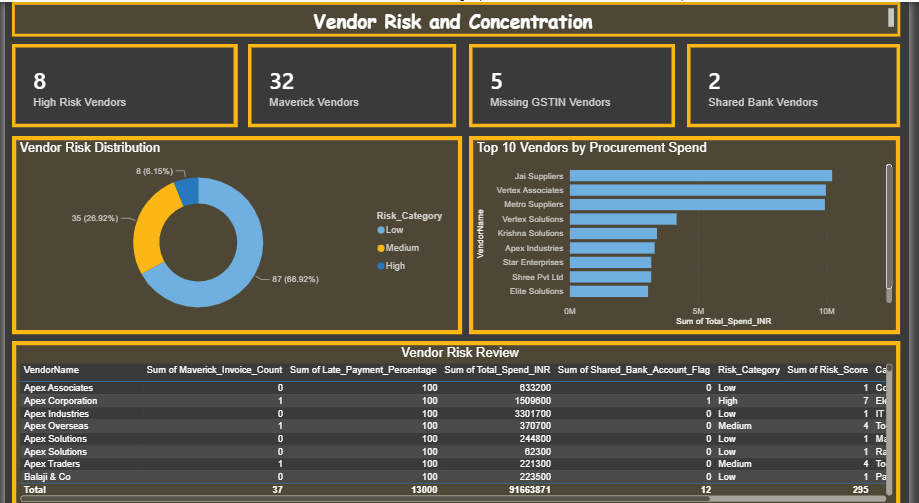

The dashboard page shown, as its layout file describes it:
{"tool":"powerbi","page":{"name":"Vendor Risk and Concentration","canvas":[1280,720],"ordinal":1},"visuals":[{"type":"cardVisual","fields":{"Data":["Vendor_Risk_Review_Table.High Risk Vendors"]},"box":[10.1,59,319.7,118.1],"z":0},{"type":"cardVisual","fields":{"Data":["Vendor_Risk_Review_Table.Missing GSTIN Vendors"]},"box":[658.1,59,292.3,118.1],"z":1000},{"type":"cardVisual","fields":{"Data":["Vendor_Risk_Review_Table.Shared Bank Vendors"]},"box":[966.2,59,302.4,118.1],"z":2000},{"type":"cardVisual","fields":{"Data":["Vendor_Risk_Review_Table.Maverick Vendors"]},"box":[344.2,59,295.2,118.1],"z":3000},{"type":"donutChart","title":"Vendor Risk Distribution","fields":{"Y":["CountNonNull(Vendor_Master_Cleaned.VendorID)"],"Category":["Vendor_Risk_Review_Table.Risk_Category"]},"box":[10.1,190.1,637.9,280.8],"z":4000},{"type":"barChart","title":"Top 10 Vendors by Procurement Spend","fields":{"Category":["Vendor_Master_Cleaned.VendorName"],"Y":["Sum(Vendor_Risk_Review_Table.Total_Spend_INR)"]},"box":[658.1,190.1,610.6,280.8],"z":5000},{"type":"tableEx","title":"Vendor Risk Review","fields":{"Values":["Vendor_Risk_Review_Table.VendorName","Sum(Vendor_Risk_Review_Table.Maverick_Invoice_Count)","Sum(Vendor_Risk_Review_Table.Late_Payment_Percentage)","Sum(Vendor_Risk_Review_Table.Total_Spend_INR)","Sum(Vendor_Risk_Review_Table.Shared_Bank_Account_Flag)","Vendor_Risk_Review_Table.Risk_Category","Sum(Vendor_Risk_Review_Table.Risk_Score)","Vendor_Risk_Review_Table.Category","Sum(Vendor_Risk_Review_Table.Spend_Percentage)"]},"box":[10.1,481,1258.6,239],"z":6000},{"type":"textbox","box":[10.1,0,1258.6,49],"z":7000}]}

Visuals, with their boxes in screenshot pixels (x1, y1, x2, y2), scaled from the page's 1280x720 canvas onto the 919x503 screenshot:
cardVisual - Vendor_Risk_Review_Table.High Risk Vendors: {"x1": 7, "y1": 41, "x2": 237, "y2": 124}
cardVisual - Vendor_Risk_Review_Table.Missing GSTIN Vendors: {"x1": 472, "y1": 41, "x2": 682, "y2": 124}
cardVisual - Vendor_Risk_Review_Table.Shared Bank Vendors: {"x1": 694, "y1": 41, "x2": 911, "y2": 124}
cardVisual - Vendor_Risk_Review_Table.Maverick Vendors: {"x1": 247, "y1": 41, "x2": 459, "y2": 124}
"Vendor Risk Distribution" donutChart: {"x1": 7, "y1": 133, "x2": 465, "y2": 329}
"Top 10 Vendors by Procurement Spend" barChart: {"x1": 472, "y1": 133, "x2": 911, "y2": 329}
"Vendor Risk Review" tableEx: {"x1": 7, "y1": 336, "x2": 911, "y2": 502}
textbox: {"x1": 7, "y1": 0, "x2": 911, "y2": 34}
